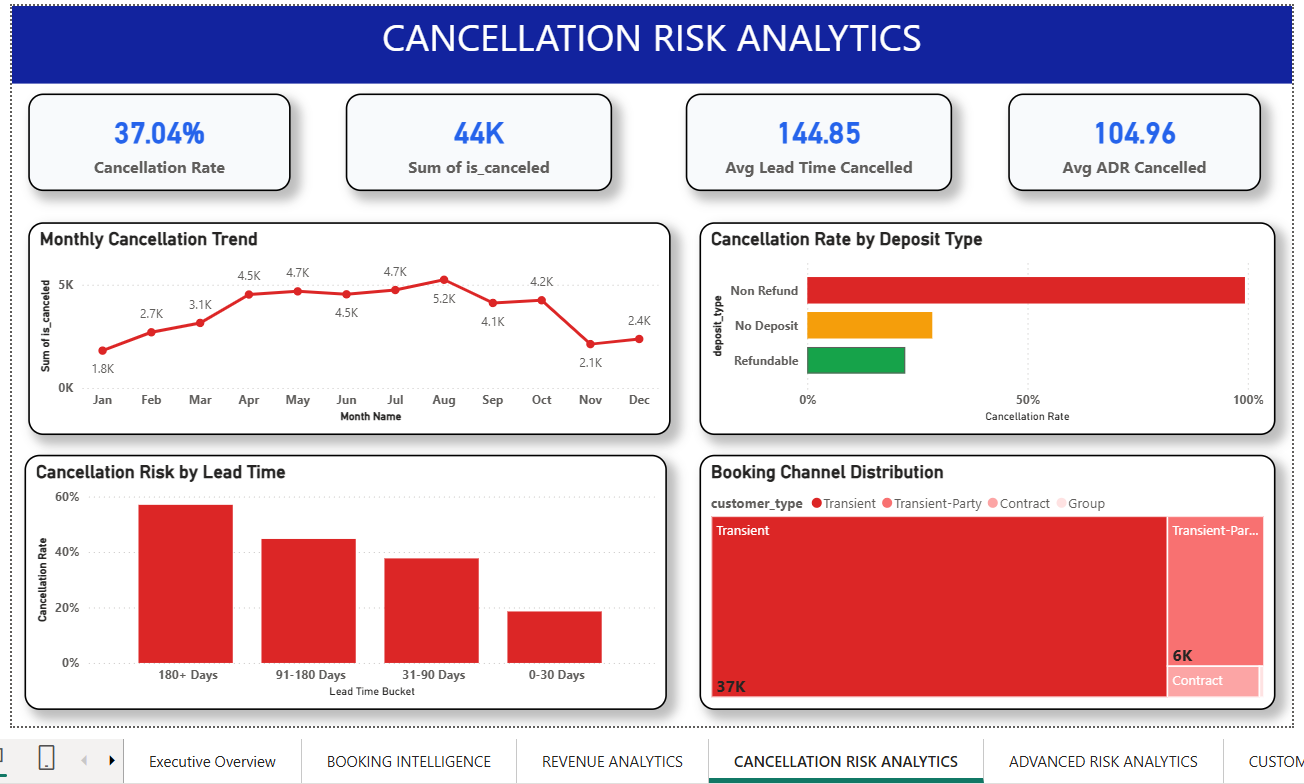

Layout of this report page (visuals, bound fields, positions):
{"tool":"powerbi","page":{"name":"CANCELLATION RISK ANALYTICS","canvas":[1280,720],"ordinal":3},"visuals":[{"type":"textbox","box":[0,0,1280,77.5],"z":0},{"type":"card","fields":{"Values":["final_hotel_analytics_dataset.Cancellation Rate"]},"box":[16.2,87.5,262.5,97.5],"z":1},{"type":"card","fields":{"Values":["Sum(final_hotel_analytics_dataset.is_canceled)"]},"box":[333.8,87.5,266.2,97.5],"z":2},{"type":"card","fields":{"Values":["final_hotel_analytics_dataset.Avg Lead Time Cancelled"]},"box":[673.8,87.5,266.2,97.5],"z":3},{"type":"card","fields":{"Values":["final_hotel_analytics_dataset.Avg ADR Cancelled"]},"box":[996.2,87.5,252.5,97.5],"z":4},{"type":"lineChart","title":"Monthly Cancellation Trend","fields":{"Category":["final_hotel_analytics_dataset.Month Name"],"Y":["Sum(final_hotel_analytics_dataset.is_canceled)"]},"box":[16.2,216.2,642.5,212.5],"z":5},{"type":"clusteredBarChart","title":"Cancellation Rate by Deposit Type","fields":{"Category":["final_hotel_analytics_dataset.deposit_type"],"Y":["final_hotel_analytics_dataset.Cancellation Rate"]},"box":[687.5,216.2,576.2,212.5],"z":6},{"type":"clusteredColumnChart","title":"Cancellation Risk by Lead Time","fields":{"Category":["final_hotel_analytics_dataset.Lead Time Bucket"],"Y":["final_hotel_analytics_dataset.Cancellation Rate"]},"box":[12.5,448.8,642.5,255],"z":7},{"type":"treemap","title":"Booking Channel Distribution","fields":{"Group":["final_hotel_analytics_dataset.customer_type"],"Values":["Sum(final_hotel_analytics_dataset.is_canceled)"]},"box":[687.5,448.8,576.2,255],"z":8}]}

Visuals, with their boxes in screenshot pixels (x1, y1, x2, y2):
textbox: x1=7, y1=0, x2=1293, y2=78
card - final_hotel_analytics_dataset.Cancellation Rate: x1=23, y1=88, x2=287, y2=186
card - Sum(final_hotel_analytics_dataset.is_canceled): x1=342, y1=88, x2=610, y2=186
card - final_hotel_analytics_dataset.Avg Lead Time Cancelled: x1=684, y1=88, x2=951, y2=186
card - final_hotel_analytics_dataset.Avg ADR Cancelled: x1=1008, y1=88, x2=1261, y2=186
"Monthly Cancellation Trend" lineChart: x1=23, y1=217, x2=669, y2=431
"Cancellation Rate by Deposit Type" clusteredBarChart: x1=698, y1=217, x2=1276, y2=431
"Cancellation Risk by Lead Time" clusteredColumnChart: x1=19, y1=451, x2=665, y2=707
"Booking Channel Distribution" treemap: x1=698, y1=451, x2=1276, y2=707
